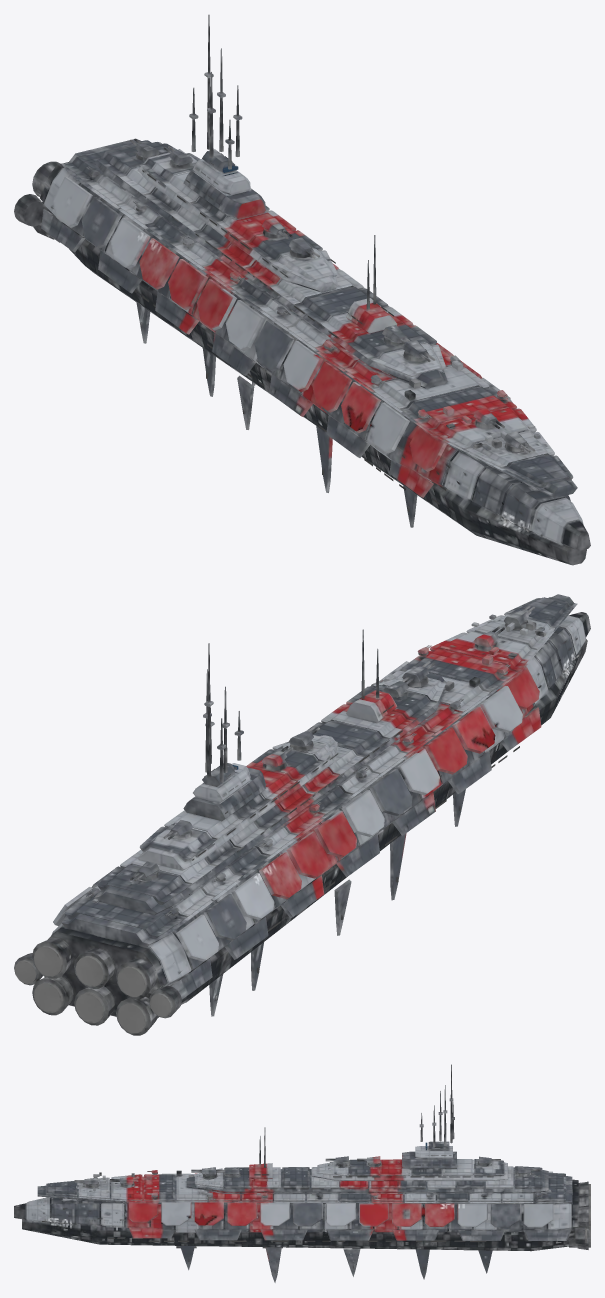
File: dreadnought.webp.glb
3 views of the same model, one above another, from view 1: azimuth 30°, elevation 25°; view 2: azimuth 150°, elevation 25°; view 3: azimuth 270°, elevation 25° (orthographic). The views are drawn at different scales.
Visible parts, largest first — view 1: hull_dreadnought; view 2: hull_dreadnought; view 3: hull_dreadnought.
Part boxes in pixels (x1,y1,x2,y2): hull_dreadnought: [14, 14, 590, 565]; hull_dreadnought: [14, 594, 590, 1035]; hull_dreadnought: [14, 1064, 590, 1282].
Bounding box in the file's own units: 139 × 296 × 736.
1 material, 1 textured.
